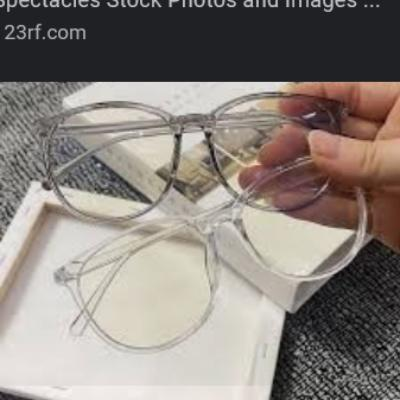glasses: (53, 153, 369, 358), (40, 91, 345, 216)
